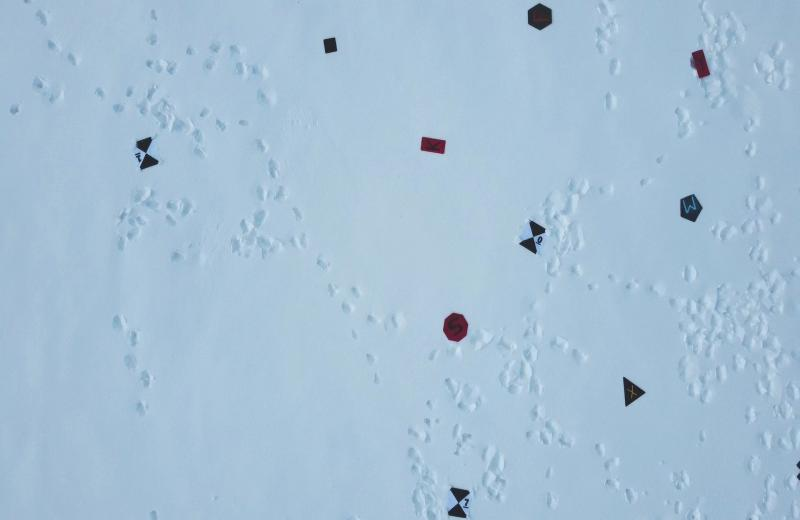Hexagon: (524, 2, 556, 34)
Octagon: (442, 310, 470, 343)
Pentagon: (676, 192, 704, 226)
Rectangle: (416, 128, 450, 160), (691, 48, 710, 80)
Square: (320, 33, 340, 59)
Triangle: (619, 373, 650, 411)
